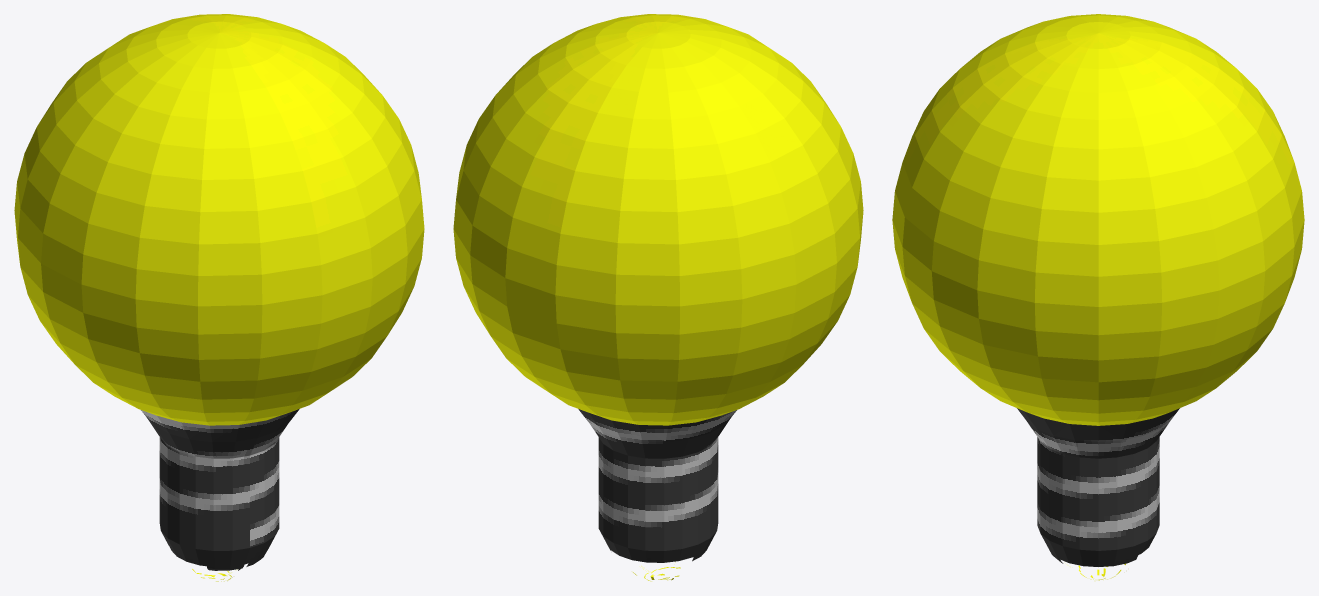
File: ampoule.obj
The picture shows the model from 3 angles, left to right: view 1: azimuth 30°, elevation 25°; view 2: azimuth 150°, elevation 25°; view 3: azimuth 270°, elevation 25°; orthographic projection.
Bounding box in the file's own units: 34.4 × 50.27 × 34.4.
